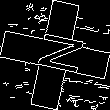N_W: (26, 30, 84, 80)
